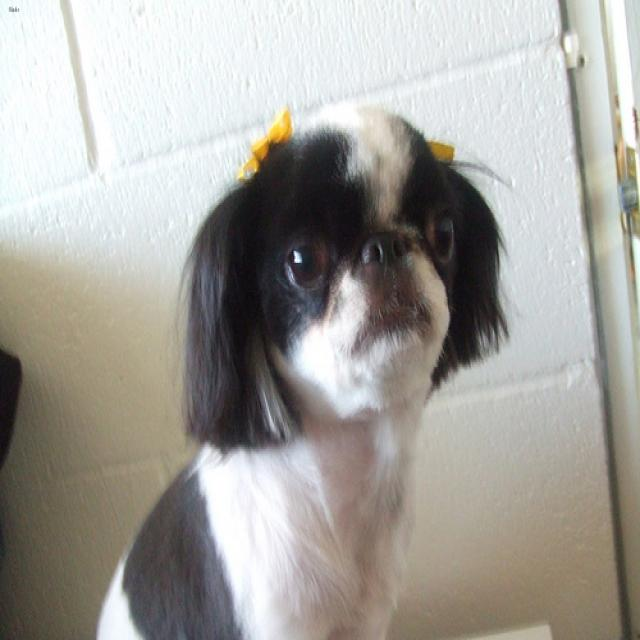dog-japanese_chin: (81, 89, 518, 637)
